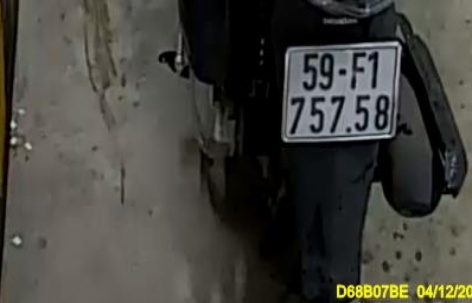plate: (282, 44, 400, 141)
